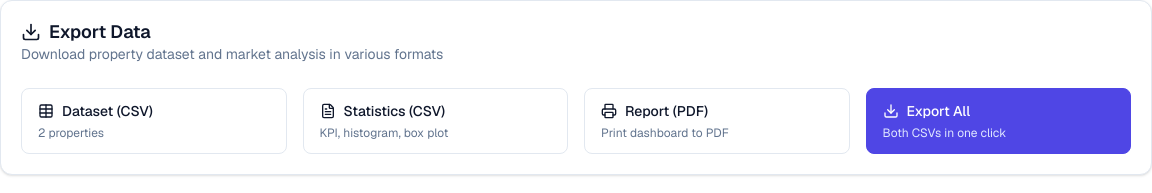
Scenario: ExportPanel › PDF export › shows error when PDF export fails
Click the text "Report (PDF)" at (655, 110), box 601,100 -> 708,120
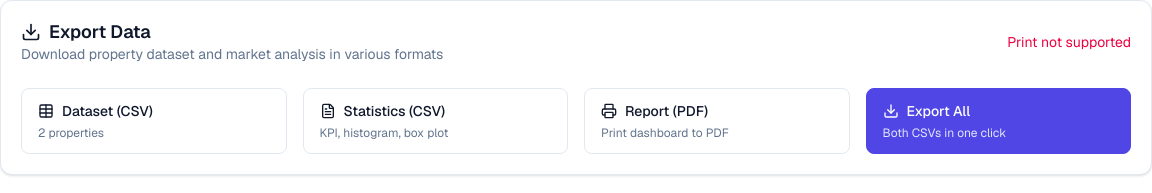
Expected: the text "Print not supported" is shown, 1007,32 -> 1131,52
